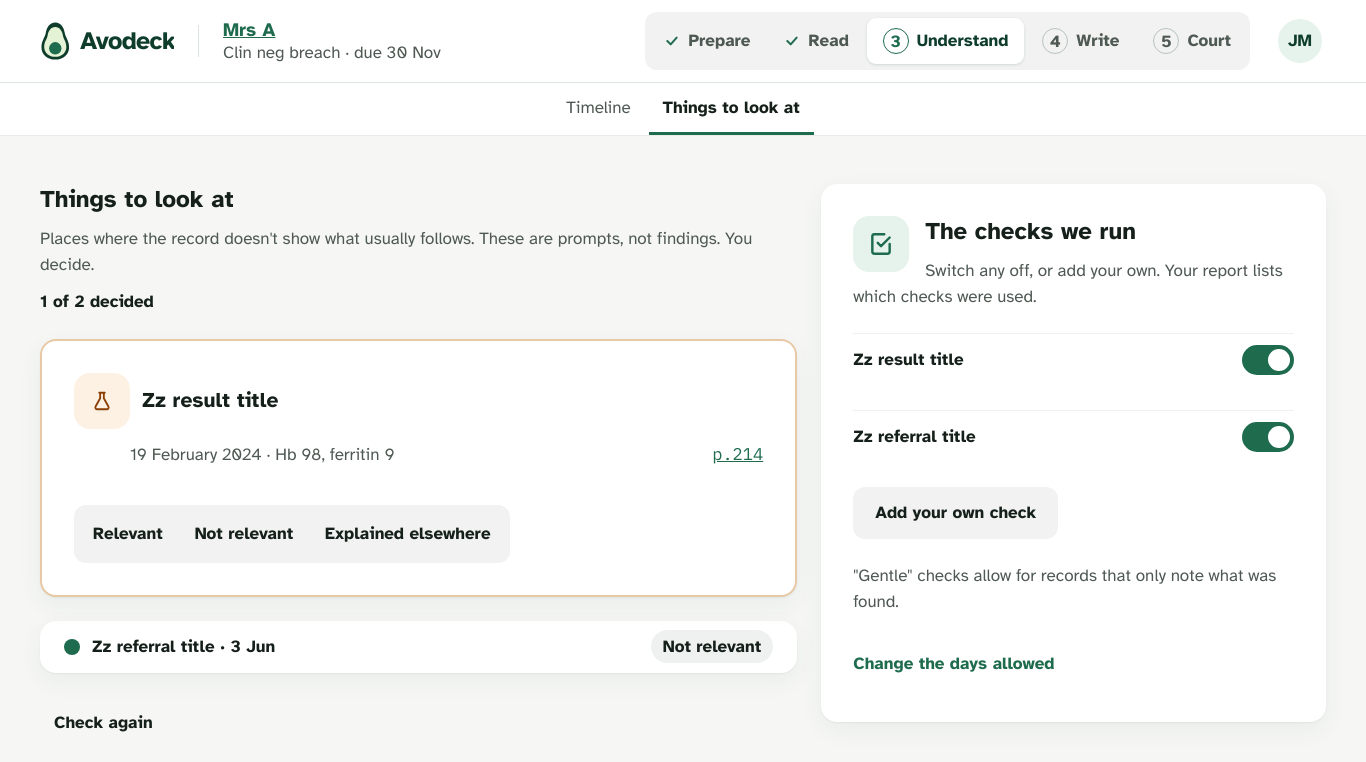
it: S13 titles, icons and decided findings › deciding an open finding folds it away
Click the button "Relevant" at (128, 534), box top-left (77, 508), bottom-right (179, 560)
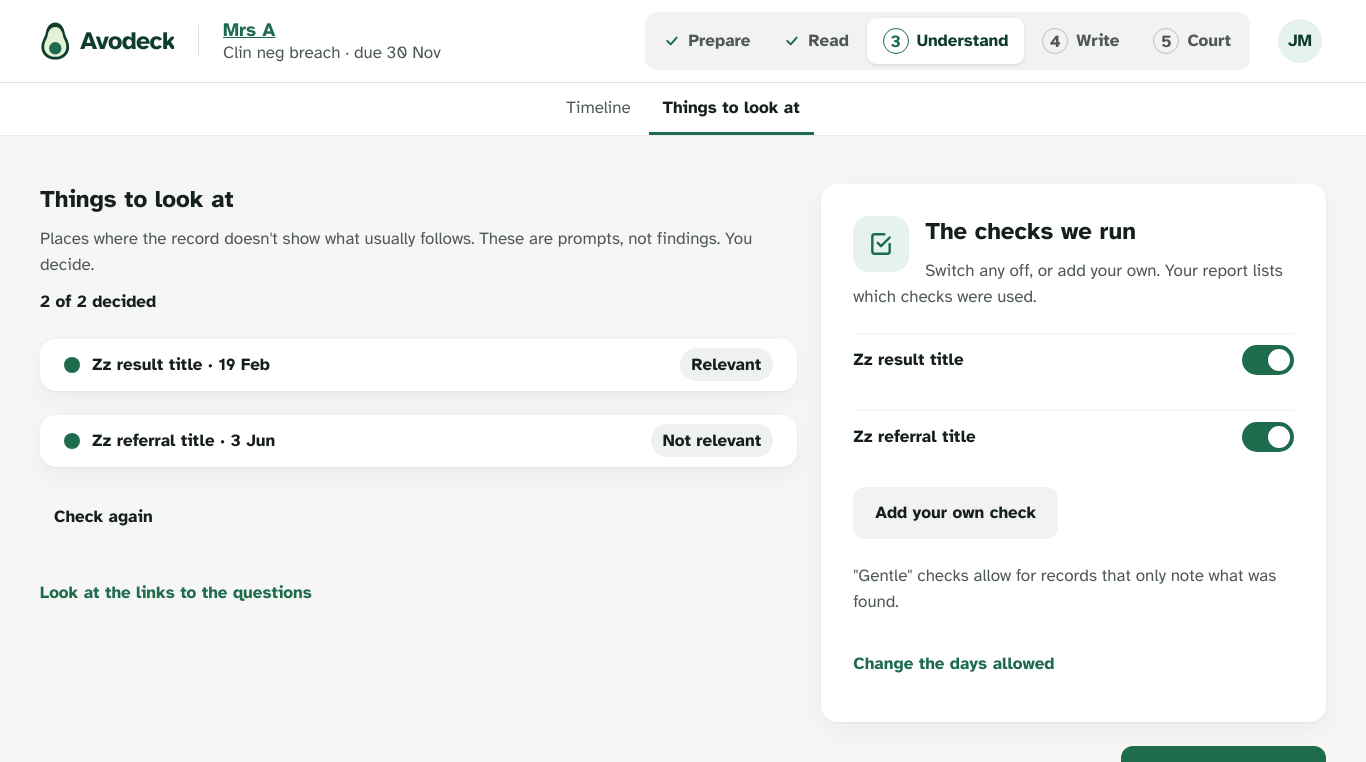
Expected: the text "2 of 2 decided" is shown, top-left (40, 291), bottom-right (156, 312)
Expected: the element "Zz result title" is shown, top-left (40, 338), bottom-right (797, 390)
